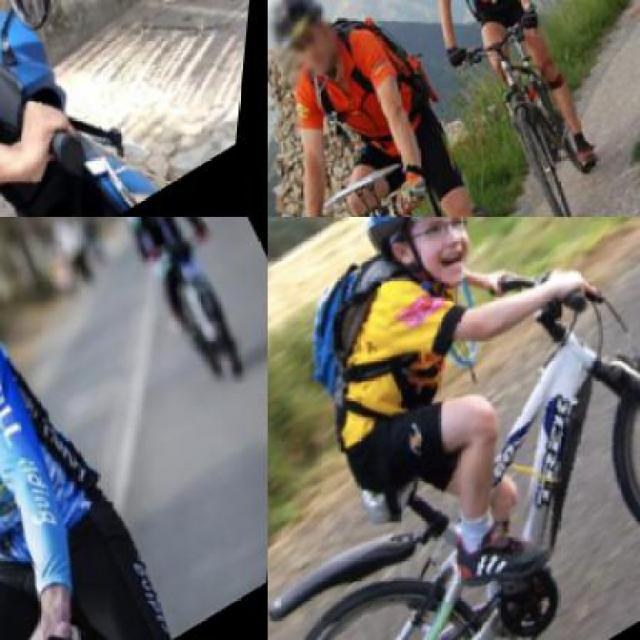With Helmet: (337, 217, 525, 325), (267, 0, 363, 98)
